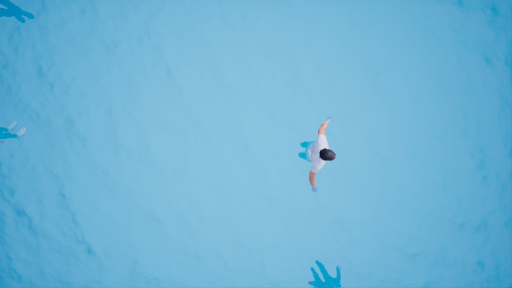person: (294, 112, 340, 194)
